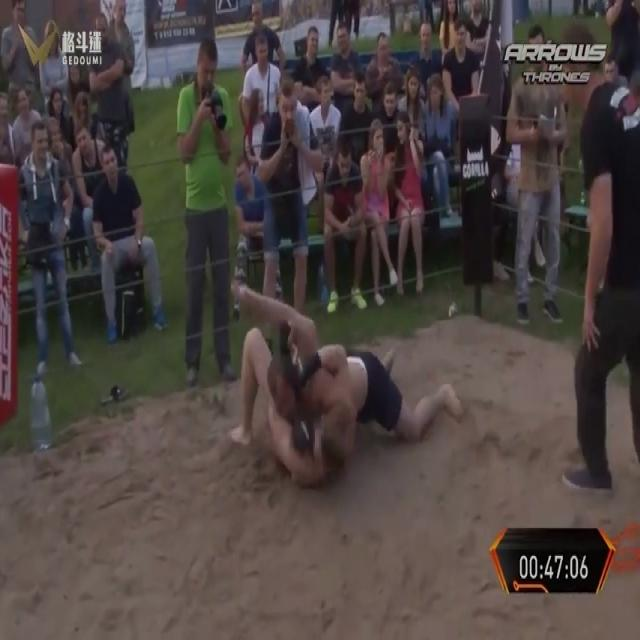fight: (218, 266, 471, 493)
non-fight: (566, 4, 639, 500), (180, 34, 242, 387), (246, 57, 318, 323), (505, 18, 565, 334), (20, 115, 80, 373), (89, 136, 156, 336), (319, 149, 370, 315), (444, 10, 482, 218), (390, 116, 428, 300)
